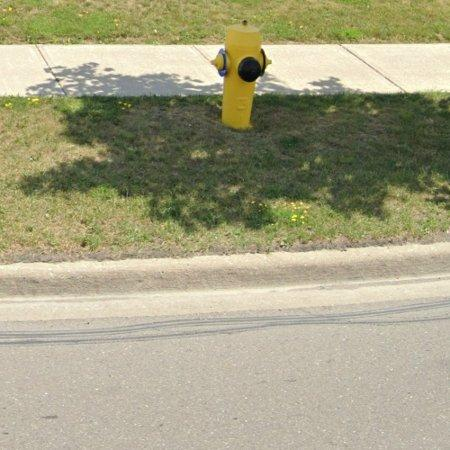a fire hydrant: (212, 21, 272, 129)
